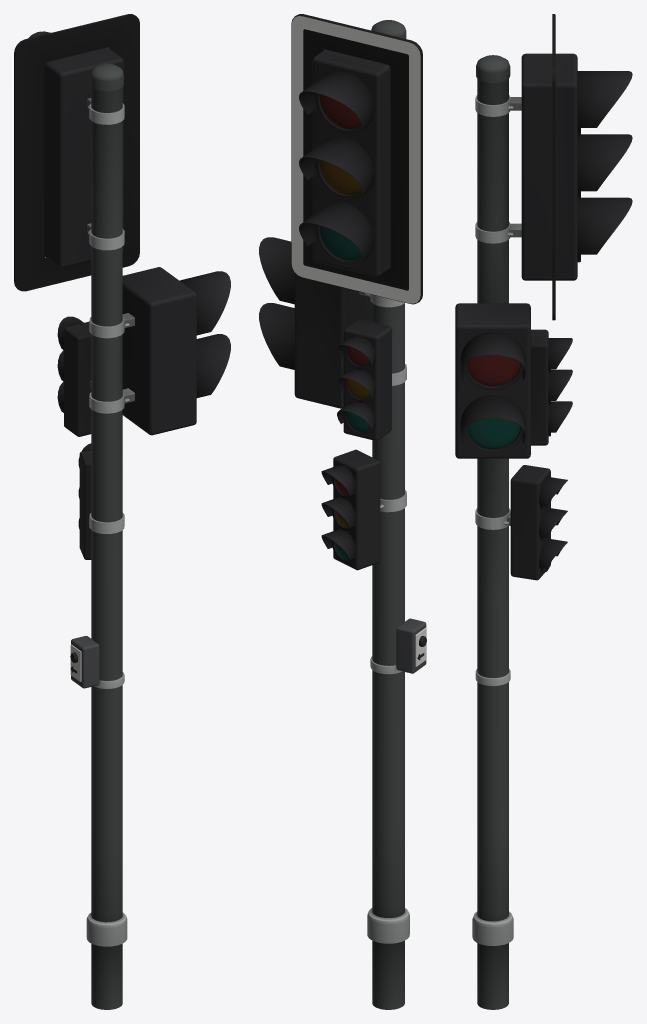
File: tlights.glb
3 views of the same model, side by side, from view 1: azimuth 30°, elevation 25°; view 2: azimuth 150°, elevation 25°; view 3: azimuth 270°, elevation 25° (orthographic). The views are drawn at different scales.
Visible parts, largest first — view 1: tl_post_LOD0, tl_post_bike_LOD0; view 2: tl_post_LOD0, tl_post_bike_LOD0; view 3: tl_post_LOD0, tl_post_bike_LOD0.
Part boxes in pixels (x1=…): tl_post_LOD0: x1=14, y1=14, x2=230, y2=1009; tl_post_bike_LOD0: x1=57, y1=316, x2=91, y2=436; tl_post_LOD0: x1=259, y1=14, x2=426, y2=1009; tl_post_bike_LOD0: x1=337, y1=319, x2=391, y2=440; tl_post_LOD0: x1=455, y1=14, x2=632, y2=1009; tl_post_bike_LOD0: x1=531, y1=329, x2=572, y2=445.
Size of what is drawn, in the model's own units: 0.759 by 3.8 by 0.634.
